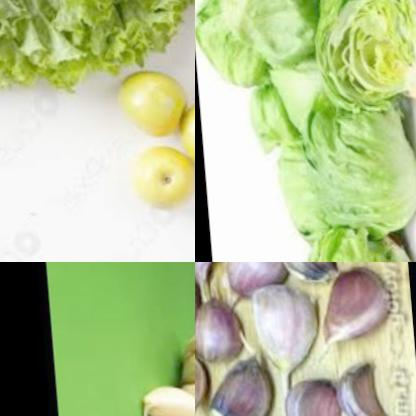garlic: (305, 262, 399, 361), (251, 276, 319, 405), (195, 342, 277, 416), (326, 354, 393, 416), (195, 293, 244, 364), (216, 262, 290, 302), (273, 378, 343, 416), (133, 381, 195, 416), (195, 270, 212, 357), (195, 262, 235, 292), (279, 262, 337, 282)
salad: (288, 87, 416, 239), (0, 0, 195, 91), (301, 0, 416, 109), (208, 0, 321, 59), (195, 0, 268, 87), (255, 54, 333, 131), (264, 140, 317, 244), (288, 223, 414, 262), (235, 77, 294, 157)
tomato: (112, 66, 195, 220)
